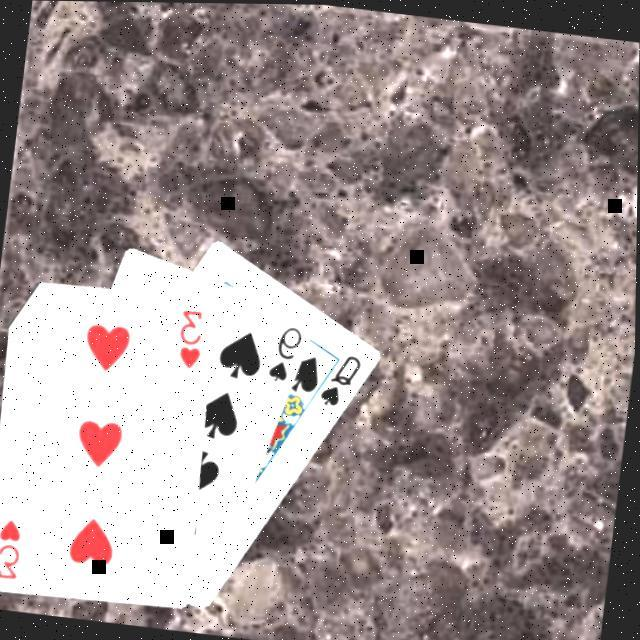3H: (172, 302, 210, 369), (0, 512, 28, 579)
9S: (265, 318, 307, 384)
QS: (316, 345, 366, 410)
